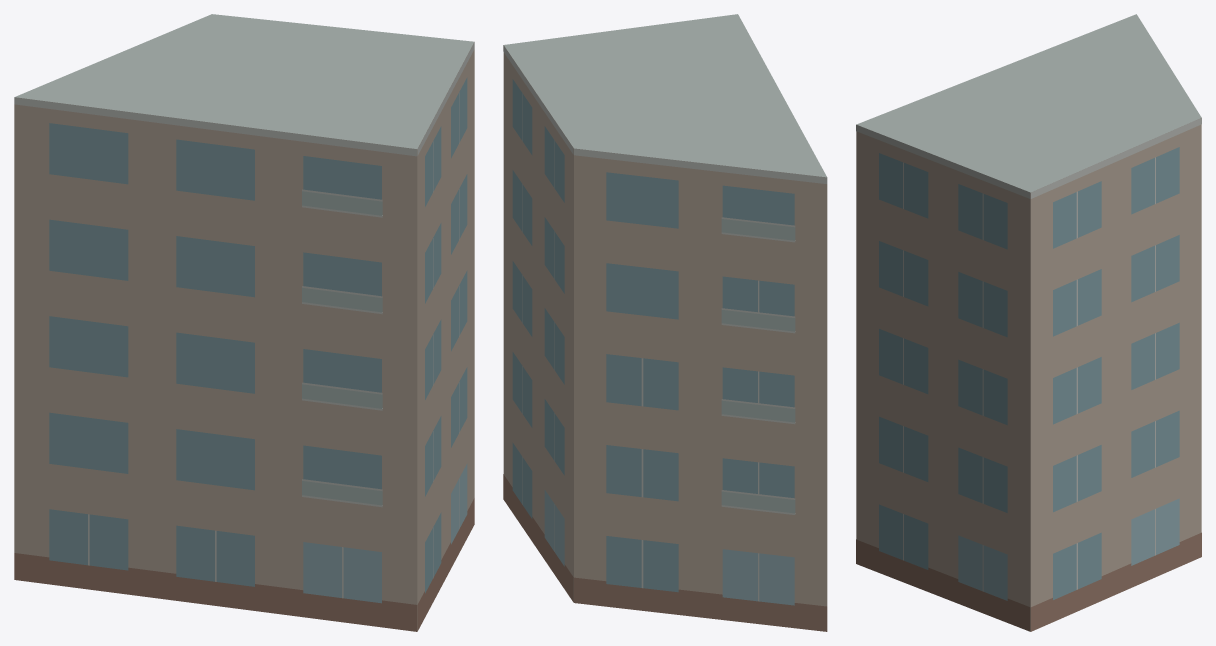
File: survey-upis-32774898.glb
3 renders of one model, left to right at view 1: azimuth 30°, elevation 25°; view 2: azimuth 150°, elevation 25°; view 3: azimuth 270°, elevation 25°, orthographic. The views are drawn at different scales.
Parts seen in each view (by area): view 1: survey-upis-32774898.tmp; view 2: survey-upis-32774898.tmp; view 3: survey-upis-32774898.tmp.
Part boxes in pixels (box(x1,y1,x2,y2)): survey-upis-32774898.tmp: box(14, 14, 474, 631); survey-upis-32774898.tmp: box(503, 14, 827, 631); survey-upis-32774898.tmp: box(856, 14, 1201, 631).
Size of the model in its own units: 14.13 by 16.2 by 11.56.
